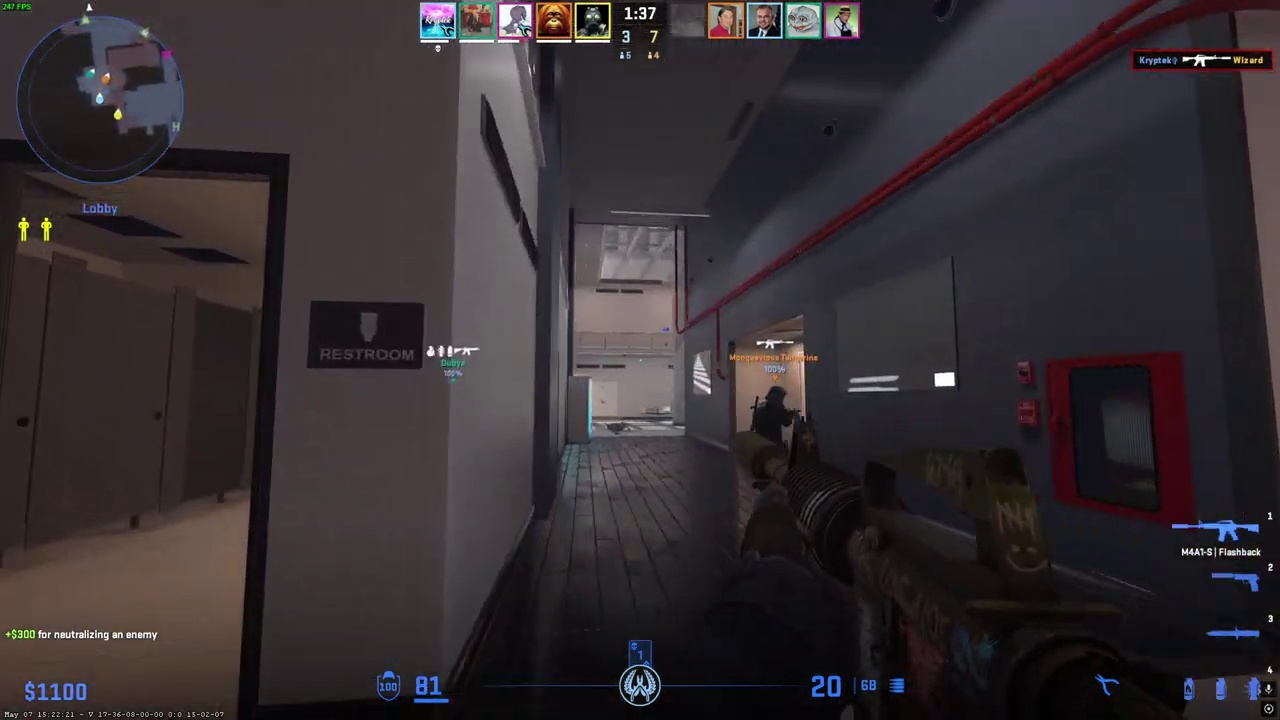CT: (753, 386, 794, 445)
